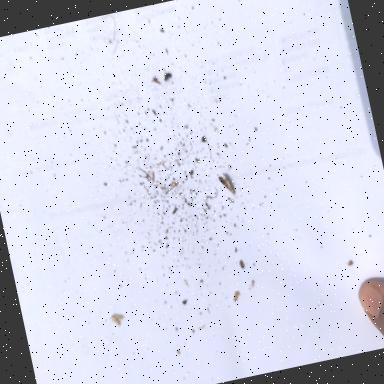pbw: (218, 174, 236, 196)
